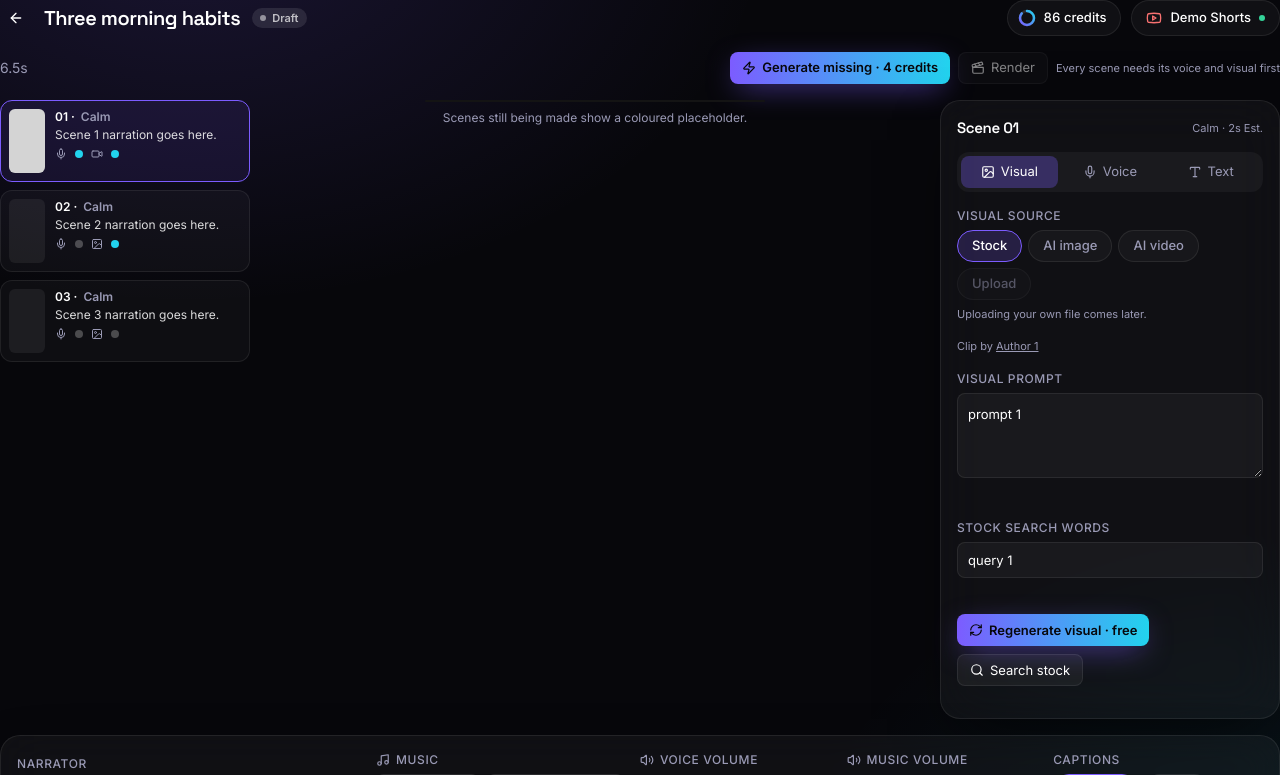
Test case: Reel editor: Generate missing (B10, B11) › out of credits (402) shows the shared out-of-credits message
This screenshot has width=1280, height=775.
What coordinates should you click on to do the following:
click the button "Generate missing · 4 credits"
I would click on:
 (840, 68)
Its box is left=730, top=52, right=950, bottom=84.
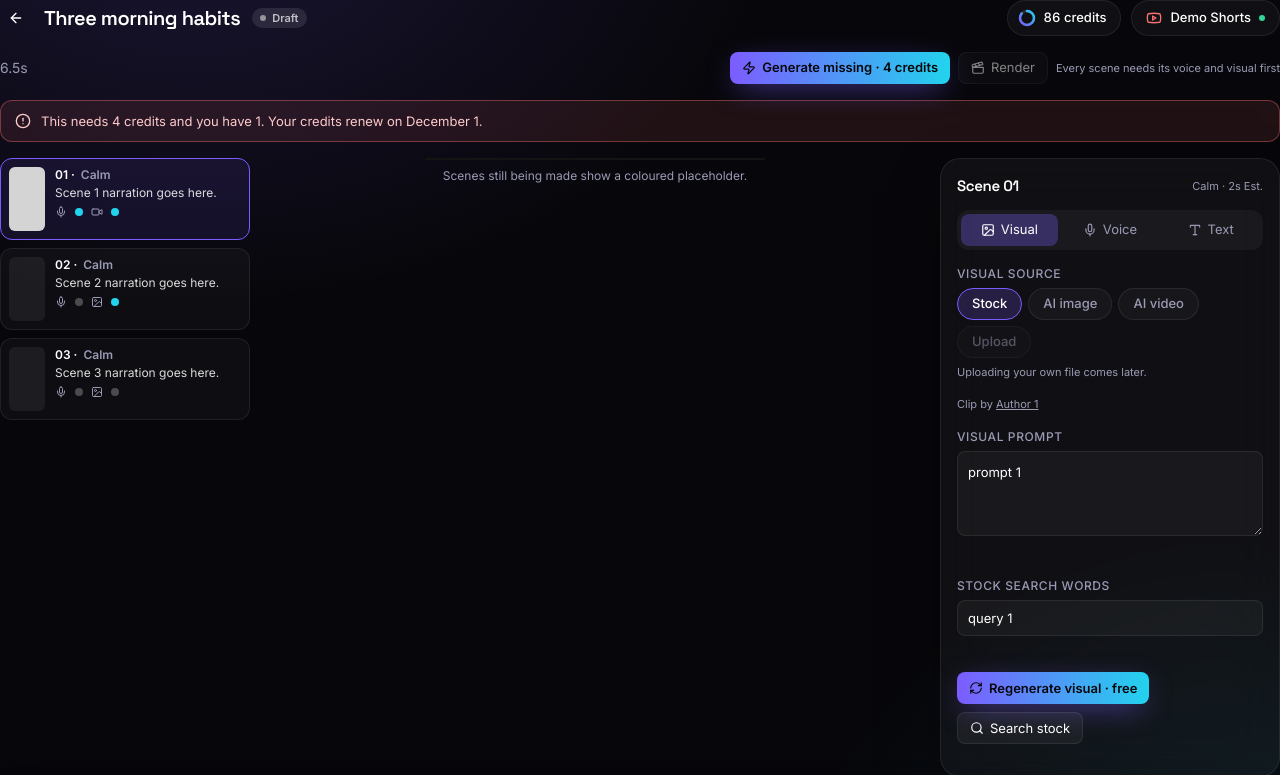
Expected: the text "This needs 4 credits and you have 1. Your credits renew on" is shown, left=41, top=113, right=483, bottom=129
